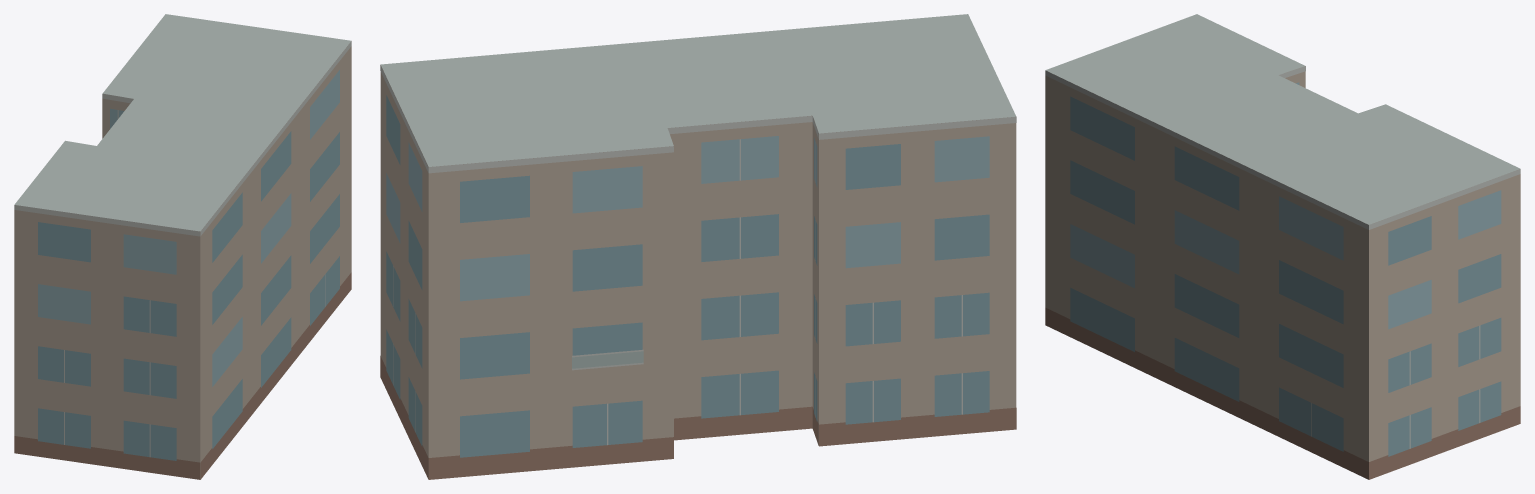
File: survey-upis-32714692.glb
3 views of the same model, side by side, from view 1: azimuth 30°, elevation 25°; view 2: azimuth 150°, elevation 25°; view 3: azimuth 270°, elevation 25° (orthographic). The views are drawn at different scales.
Parts seen in each view (by area): view 1: survey-upis-32714692.tmp; view 2: survey-upis-32714692.tmp; view 3: survey-upis-32714692.tmp.
Boxes of the visible parts, x1=… form: survey-upis-32714692.tmp: x1=14, y1=14, x2=351, y2=479; survey-upis-32714692.tmp: x1=380, y1=14, x2=1016, y2=479; survey-upis-32714692.tmp: x1=1045, y1=14, x2=1520, y2=479.
Size of the model in its own units: 21.44 by 12.07 by 20.42.
